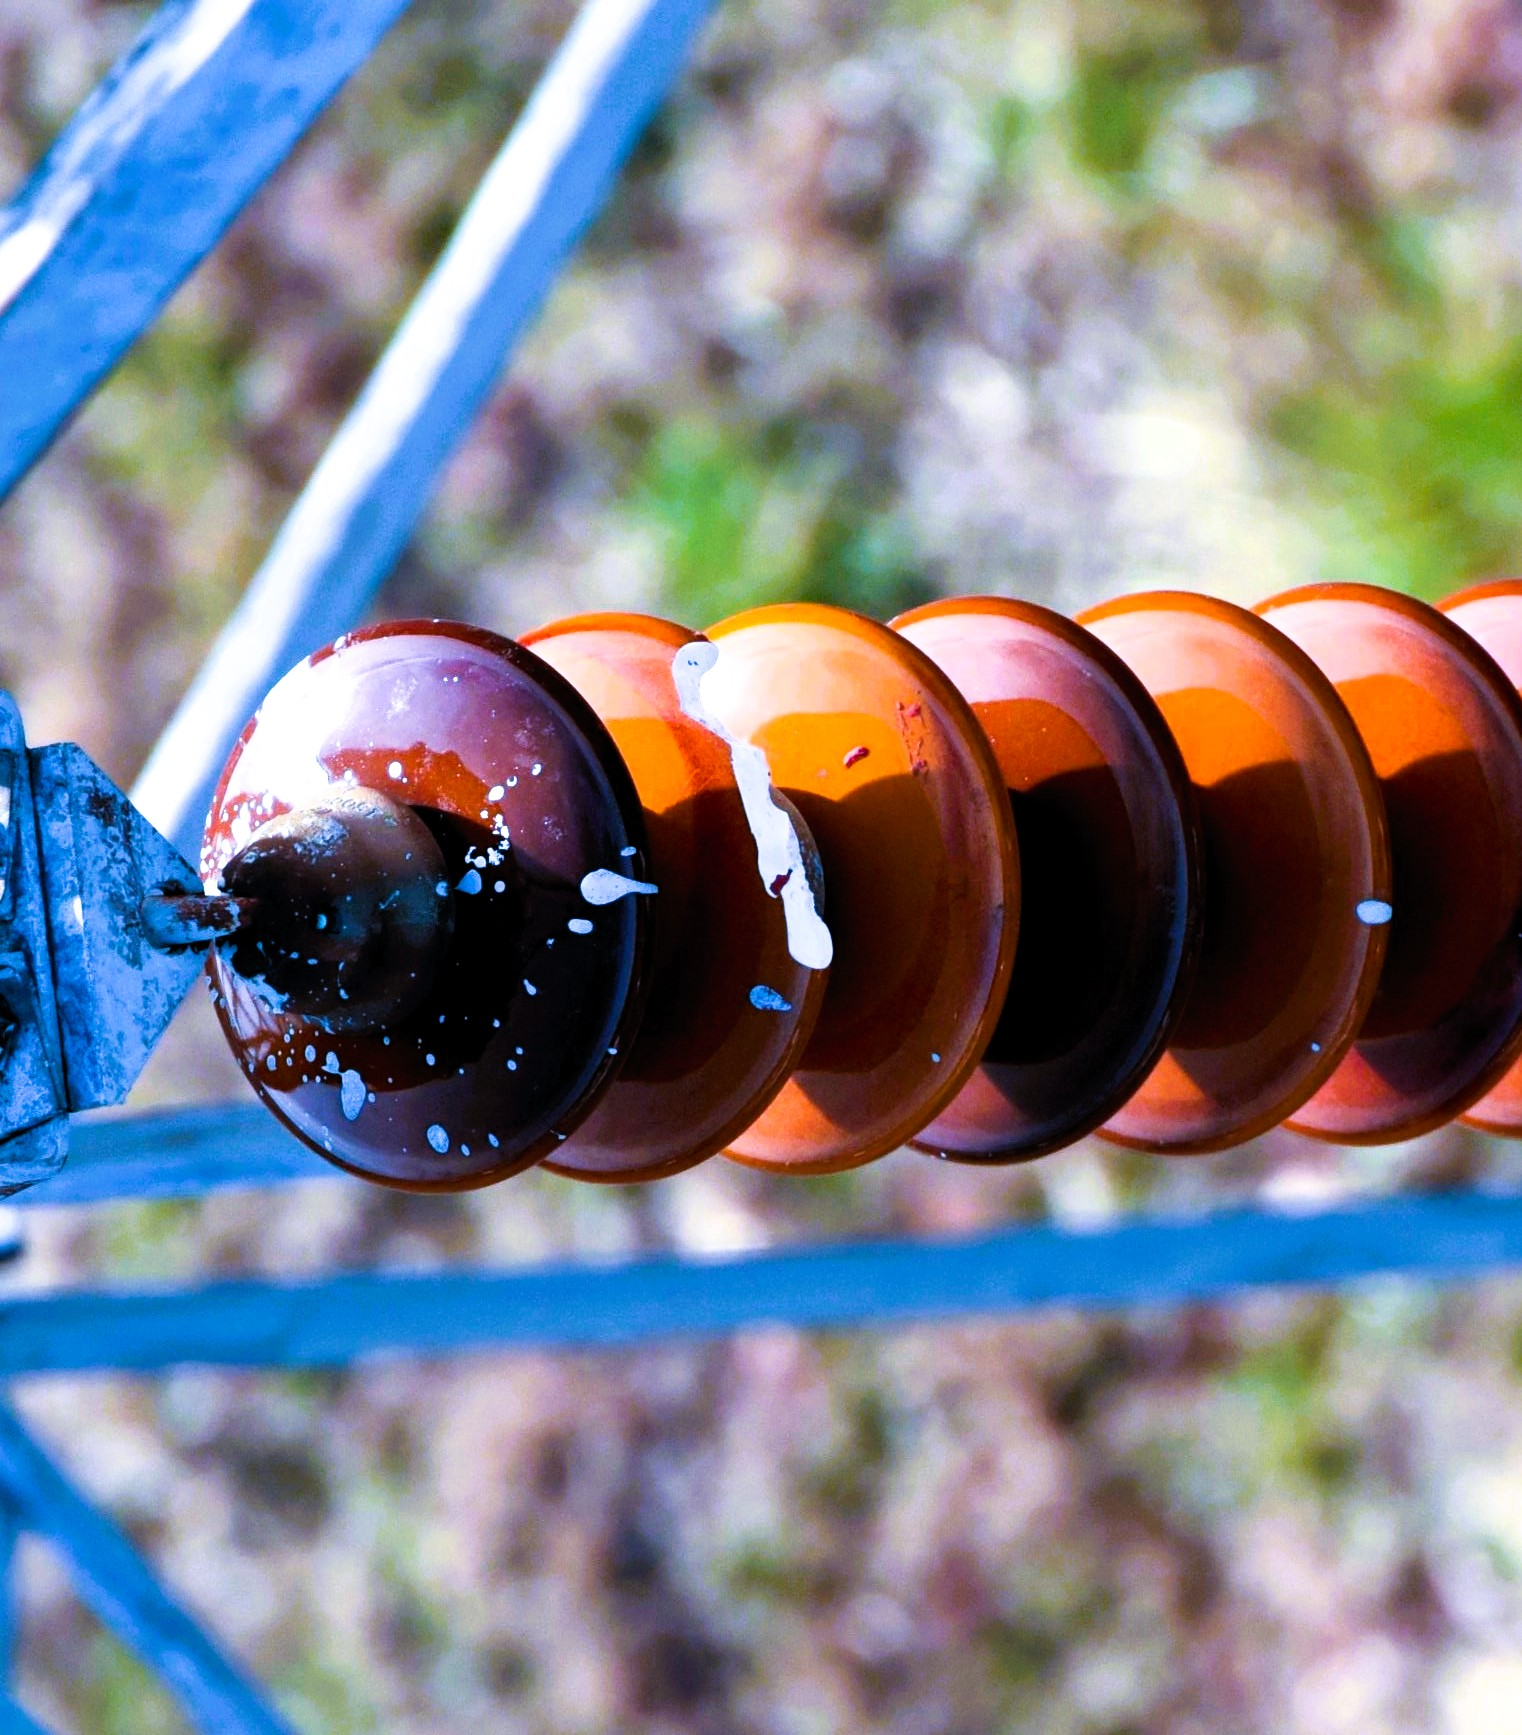insulator breakage: (540, 598, 847, 1188)
